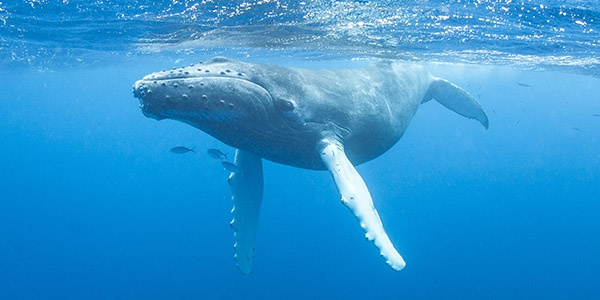humpback: (127, 57, 432, 173)
